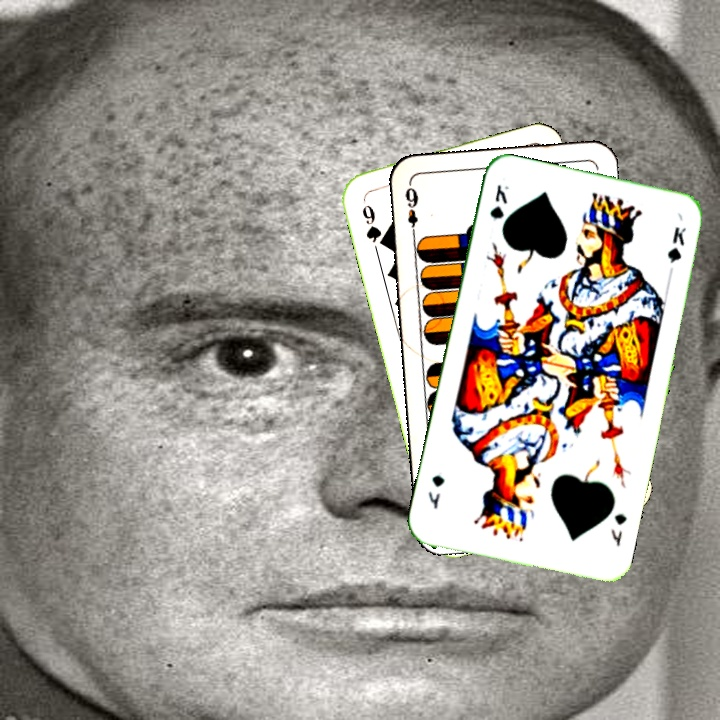E9: (401, 180, 421, 239)
G9: (358, 200, 388, 250)
GK: (486, 180, 511, 222), (607, 509, 630, 549)
